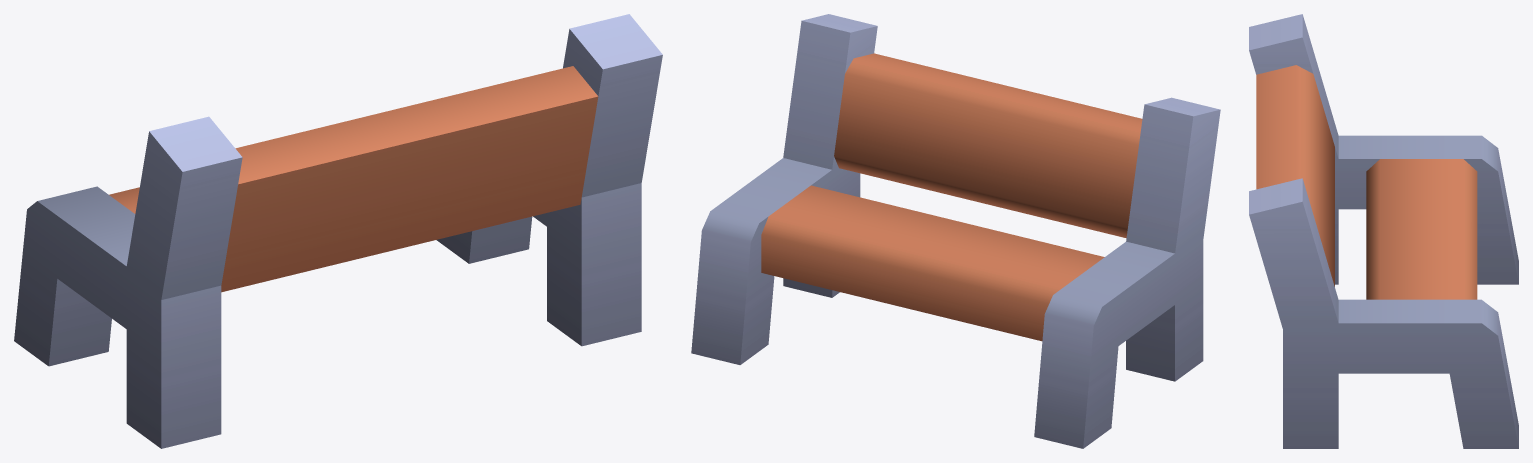
Rendered from bench.glb.
The picture shows the model from 3 angles, left to right: view 1: azimuth 30°, elevation 25°; view 2: azimuth 150°, elevation 25°; view 3: azimuth 270°, elevation 25°; orthographic projection. The views are drawn at different scales.
Visible parts, largest first — view 1: bench; view 2: bench; view 3: bench.
Boxes of the visible parts, box(x1,y1,x2,y2) form: bench: box(14, 14, 662, 448); bench: box(691, 14, 1220, 448); bench: box(1249, 14, 1518, 448).
Size of the model in its own units: 0.8 by 0.4915 by 0.4863.
1 material, 1 textured.
